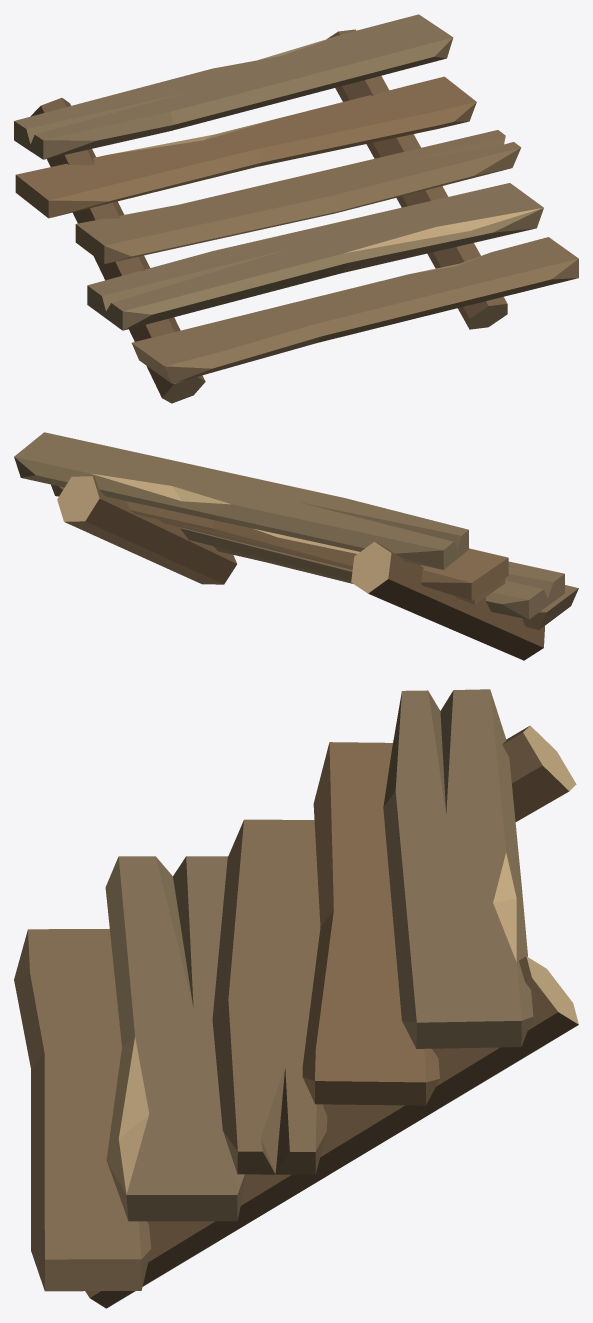
Rendered from rpgpp_ag_stockpile_01_stairs.fbx.
3 renders of one model, top to bottom at view 1: azimuth 30°, elevation 25°; view 2: azimuth 150°, elevation 25°; view 3: azimuth 270°, elevation 25°, orthographic. The views are drawn at different scales.
Parts seen in each view (by area): view 1: rpgpp_ag_stockpile_01_stairs; view 2: rpgpp_ag_stockpile_01_stairs; view 3: rpgpp_ag_stockpile_01_stairs.
Boxes of the visible parts, x1=… form: rpgpp_ag_stockpile_01_stairs: x1=14, y1=14, x2=578, y2=403; rpgpp_ag_stockpile_01_stairs: x1=14, y1=432, x2=578, y2=660; rpgpp_ag_stockpile_01_stairs: x1=14, y1=689, x2=578, y2=1308.
Bounding box in the file's own units: 2.21 × 0.992 × 1.5.
